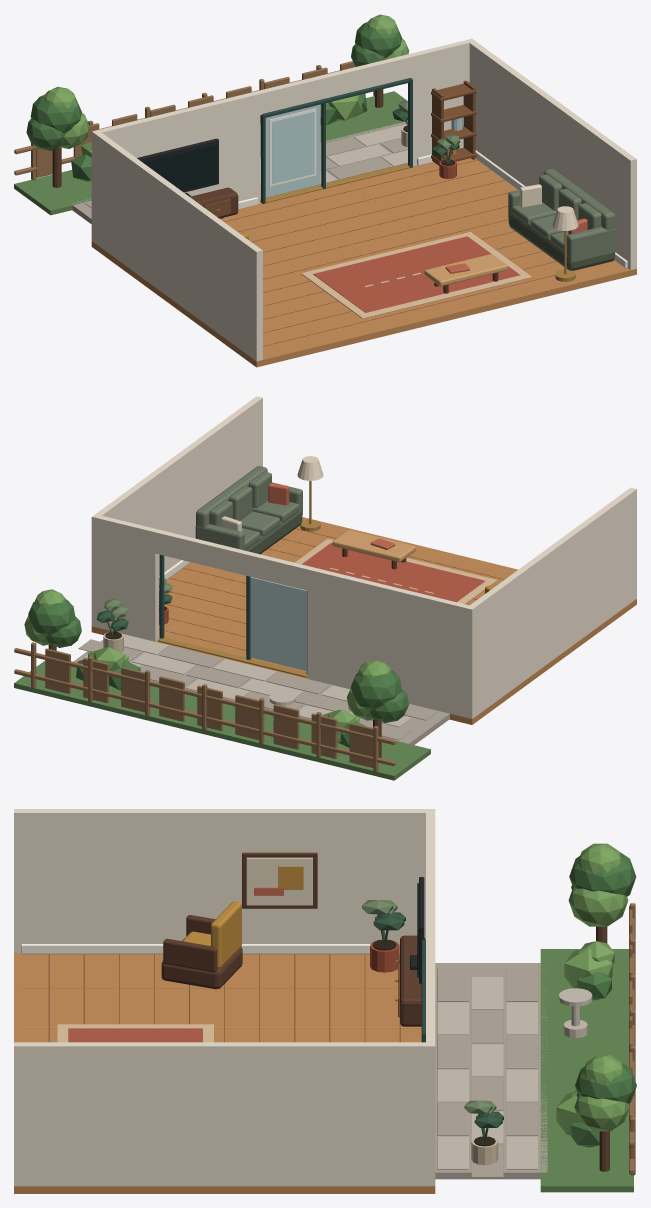
File: living-room.glb
3 views of the same model, one above another, from view 1: azimuth 30°, elevation 25°; view 2: azimuth 150°, elevation 25°; view 3: azimuth 270°, elevation 25° (orthographic). The views are drawn at different scales.
Parts seen in each view (by area): view 1: Floor_Slab_12x9m, Wall_Left, Wall_Right, Wall_Back_Left, Rug_Clay_Inset, Wall_Back_Right, Backyard_Lawn, Wall_Back_Header, Patio_Glass_View, Rug_Border, Television_Screen, Patio_Fixed_Glass_Stylized (+25 smaller); view 2: Wall_Left, Wall_Back_Left, Floor_Slab_12x9m, Wall_Right, Wall_Back_Right, Backyard_Lawn, Patio_Fixed_Glass_Stylized, Rug_Clay_Inset, Wall_Back_Header, Patio_Base, Fence_Rail_2, Fence_Rail_1 (+30 smaller); view 3: Wall_Right, Wall_Left, Floor_Slab_12x9m, Backyard_Lawn, Patio_Base, Baseboard_Left, Wall_Art_Cream, Rug_Clay_Inset, Backyard_Tree_Left_Canopy_2, Media_Console_Body, Backyard_Tree_Left_Canopy_3, Backyard_Tree_Right_Canopy_2 (+35 smaller).
Part boxes in pixels (<box>): Floor_Slab_12x9m: <box>91,158,636,367</box>; Wall_Left: <box>91,130,262,361</box>; Wall_Right: <box>466,38,636,269</box>; Wall_Back_Left: <box>92,91,260,203</box>; Rug_Clay_Inset: <box>313,236,519,312</box>; Wall_Back_Right: <box>409,39,471,165</box>; Backyard_Lawn: <box>14,91,407,215</box>; Wall_Back_Header: <box>257,54,412,114</box>; Patio_Glass_View: <box>272,111,314,183</box>; Rug_Border: <box>301,232,531,318</box>; Television_Screen: <box>142,144,216,190</box>; Patio_Fixed_Glass_Stylized: <box>265,104,320,197</box>; Wall_Left: <box>466,487,636,718</box>; Wall_Back_Left: <box>307,567,475,718</box>; Floor_Slab_12x9m: <box>91,517,636,724</box>; Wall_Right: <box>91,396,262,626</box>; Wall_Back_Right: <box>91,514,158,641</box>; Backyard_Lawn: <box>14,660,430,780</box>; Patio_Fixed_Glass_Stylized: <box>250,577,306,670</box>; Rug_Clay_Inset: <box>301,543,484,602</box>; Wall_Back_Header: <box>155,529,310,590</box>; Patio_Base: <box>73,640,449,744</box>; Fence_Rail_2: <box>14,648,395,744</box>; Fence_Rail_1: <box>14,669,395,766</box>; Wall_Right: <box>14,1042,435,1186</box>; Wall_Left: <box>14,809,435,952</box>; Floor_Slab_12x9m: <box>14,953,435,1193</box>; Backyard_Lawn: <box>540,949,633,1192</box>; Patio_Base: <box>435,963,547,1179</box>; Baseboard_Left: <box>21,944,399,954</box>; Wall_Art_Cream: <box>246,857,312,905</box>; Rug_Clay_Inset: <box>68,1028,202,1042</box>; Backyard_Tree_Left_Canopy_2: <box>568,887,628,926</box>; Media_Console_Body: <box>400,935,425,1026</box>; Backyard_Tree_Left_Canopy_3: <box>569,852,636,896</box>; Backyard_Tree_Right_Canopy_2: <box>574,1095,629,1131</box>.
Bounding box in the file's own units: 12 × 3.48 × 13.31.
